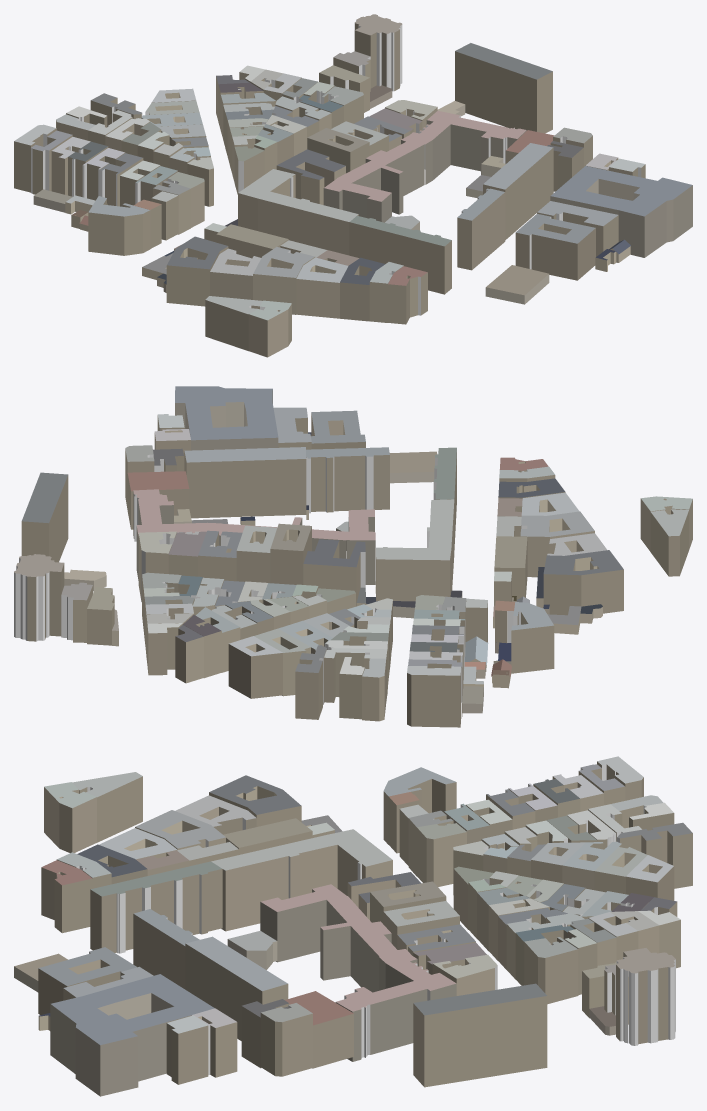
The picture shows the model from 3 angles, top to bottom: view 1: azimuth 30°, elevation 25°; view 2: azimuth 150°, elevation 25°; view 3: azimuth 270°, elevation 25°; orthographic projection. The views are drawn at different scales.
Visible parts, largest first — view 1: tuile; view 2: tuile; view 3: tuile.
Part boxes in pixels (<box>): tuile: <box>14,14,692,357</box>; tuile: <box>14,386,692,727</box>; tuile: <box>14,756,692,1096</box>.
Size of the model in its own units: 279 by 39.45 by 279.
